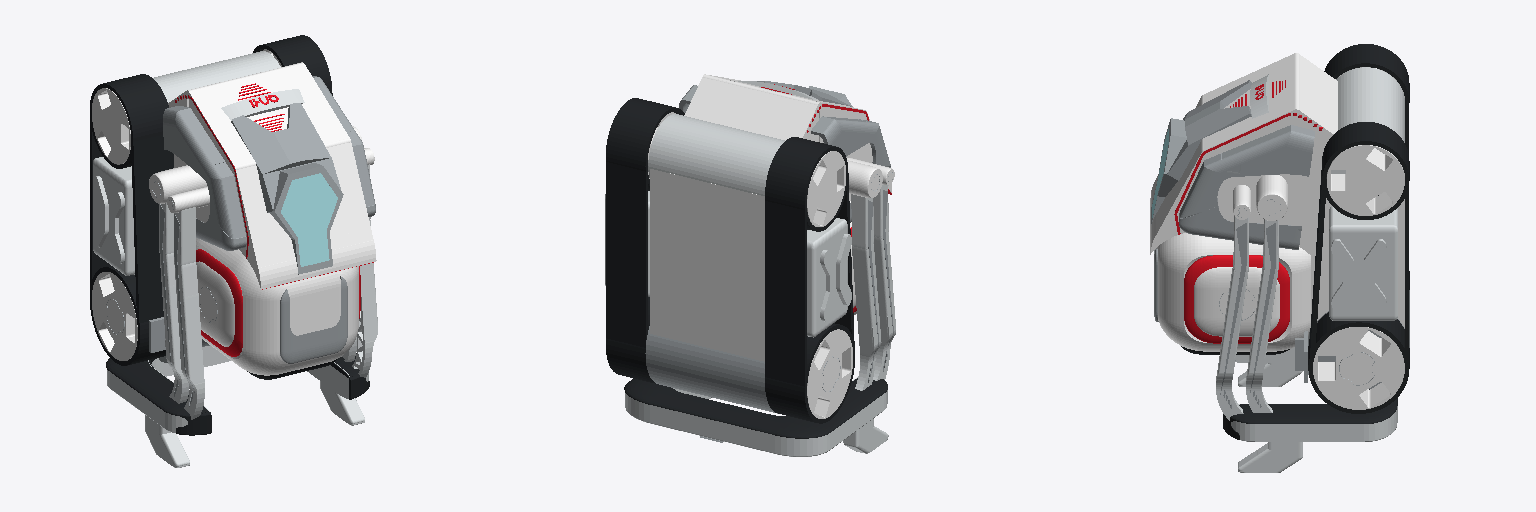
File: tinker.obj
3 renders of one model, left to right at view 1: azimuth 30°, elevation 25°; view 2: azimuth 150°, elevation 25°; view 3: azimuth 270°, elevation 25°, orthographic.
Visible parts, largest first — view 1: obj_0; view 2: obj_0; view 3: obj_0.
Part boxes in pixels (bbox=[...]): obj_0: bbox=[90, 35, 377, 467]; obj_0: bbox=[605, 74, 895, 456]; obj_0: bbox=[1150, 44, 1409, 472].
Bounding box in the file's own units: 69.66 × 106 × 71.33.